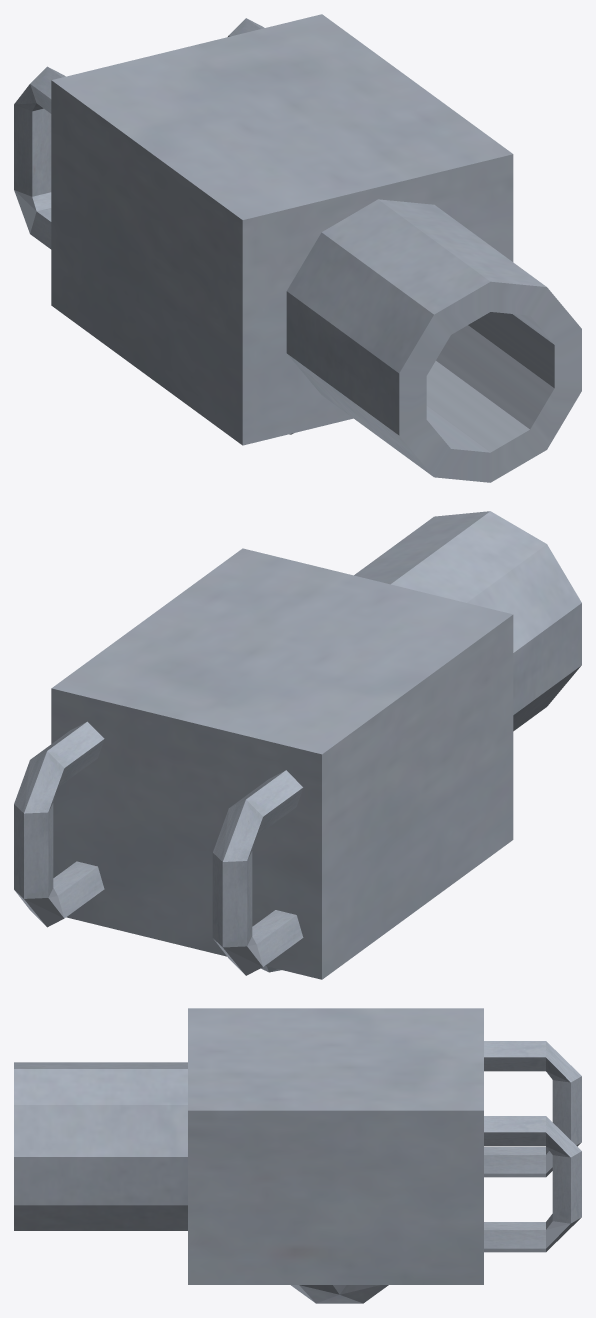
File: laser.dae
The picture shows the model from 3 angles, top to bottom: view 1: azimuth 30°, elevation 25°; view 2: azimuth 150°, elevation 25°; view 3: azimuth 270°, elevation 25°; orthographic projection. The views are drawn at different scales.
Parts seen in each view (by area): view 1: laser; view 2: laser; view 3: laser.
Part boxes in pixels (<box>): laser: <box>14,14,581,482</box>; laser: <box>14,511,581,979</box>; laser: <box>14,1008,581,1303</box>.
Size of the model in its own units: 16.34 by 38.39 by 17.95.
1 material, 1 textured.
